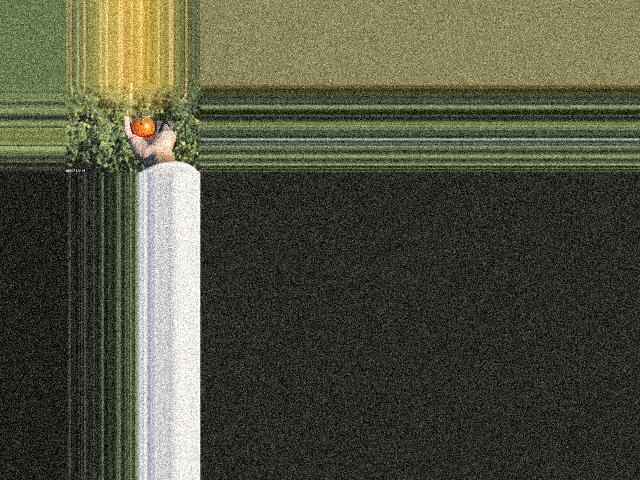tomato: (130, 115, 154, 136)
